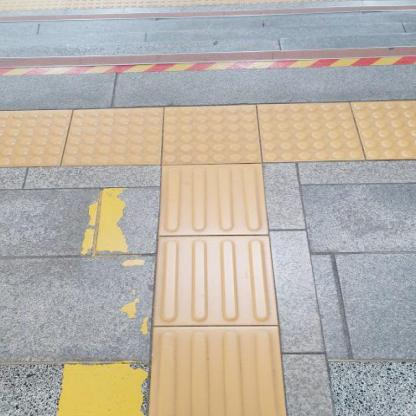podotacti: (148, 165, 289, 415), (1, 102, 415, 166)
